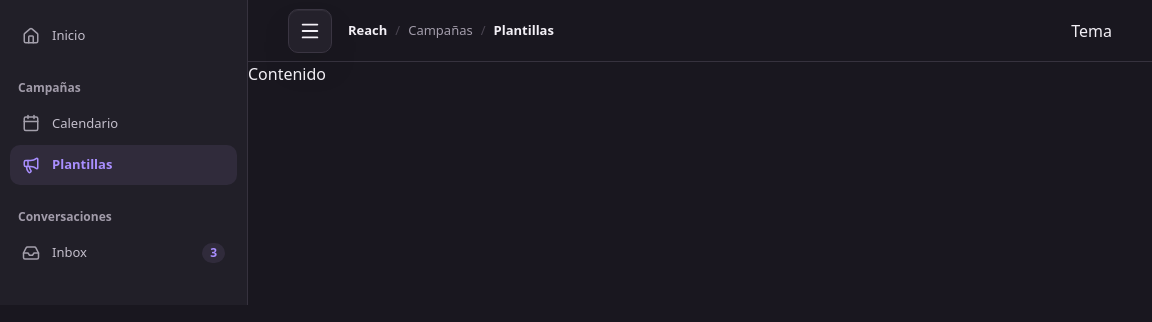
Test: AppShellTopbar › el burger alterna collapsed y refleja aria-expanded sobre el rail
Click the button named "Alternar barra lateral" at (310,30), box [288, 8, 332, 52]
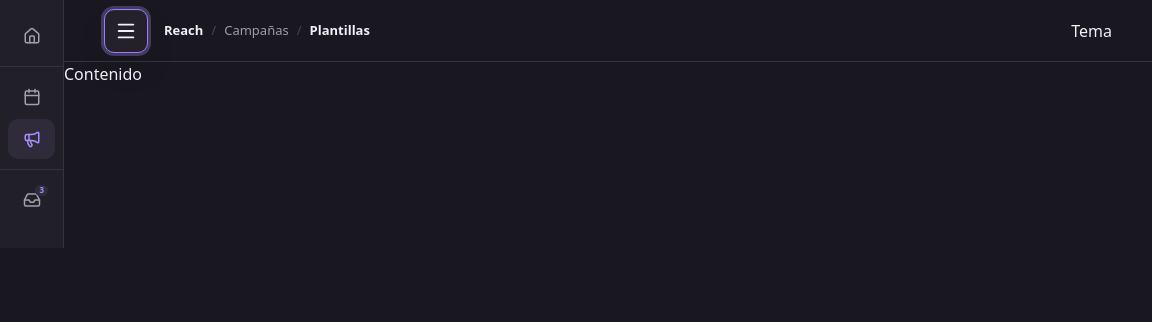
Expected: the button named "Alternar barra lateral" is collapsed, [104, 8, 148, 52]
